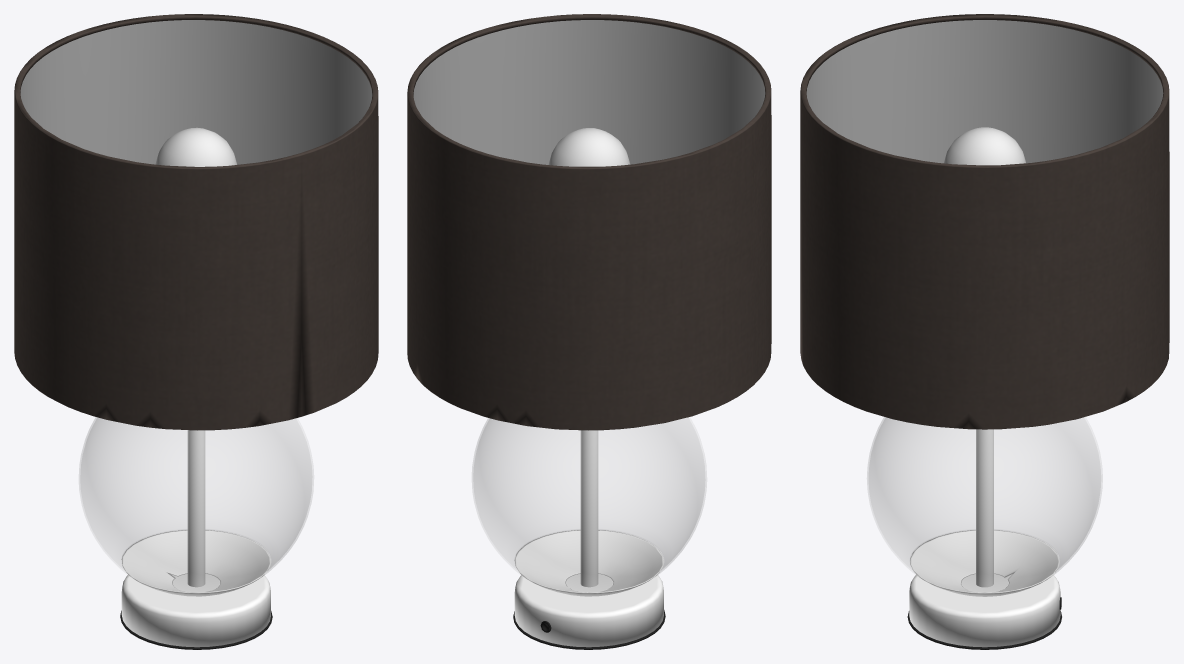
Rendered from iridlamp.glb.
3 renders of one model, left to right at view 1: azimuth 30°, elevation 25°; view 2: azimuth 150°, elevation 25°; view 3: azimuth 270°, elevation 25°, orthographic.
Parts seen in each view (by area): view 1: lamp, lamp_iridescence, lamp_transmission; view 2: lamp, lamp_iridescence, lamp_transmission; view 3: lamp, lamp_iridescence, lamp_transmission.
Part boxes in pixels (box(x1,y1,x2,y2)): lamp: box(14, 14, 378, 649); lamp_iridescence: box(20, 20, 372, 164); lamp_transmission: box(79, 417, 313, 592); lamp: box(407, 14, 771, 649); lamp_iridescence: box(413, 20, 765, 164); lamp_transmission: box(472, 417, 706, 592); lamp: box(800, 14, 1169, 649); lamp_iridescence: box(806, 20, 1163, 163); lamp_transmission: box(867, 417, 1102, 592).
Size of the model in its own units: 0.2971 by 0.4761 by 0.3018.
3 materials, 3 textured.
